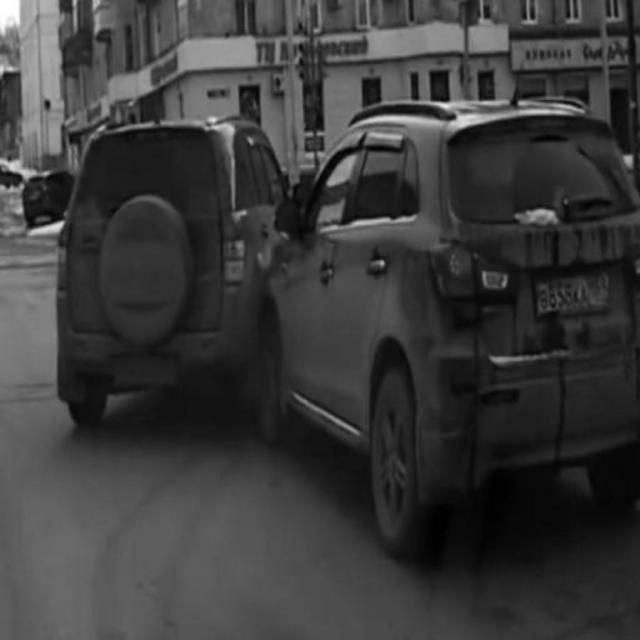accident: (55, 97, 638, 537)
